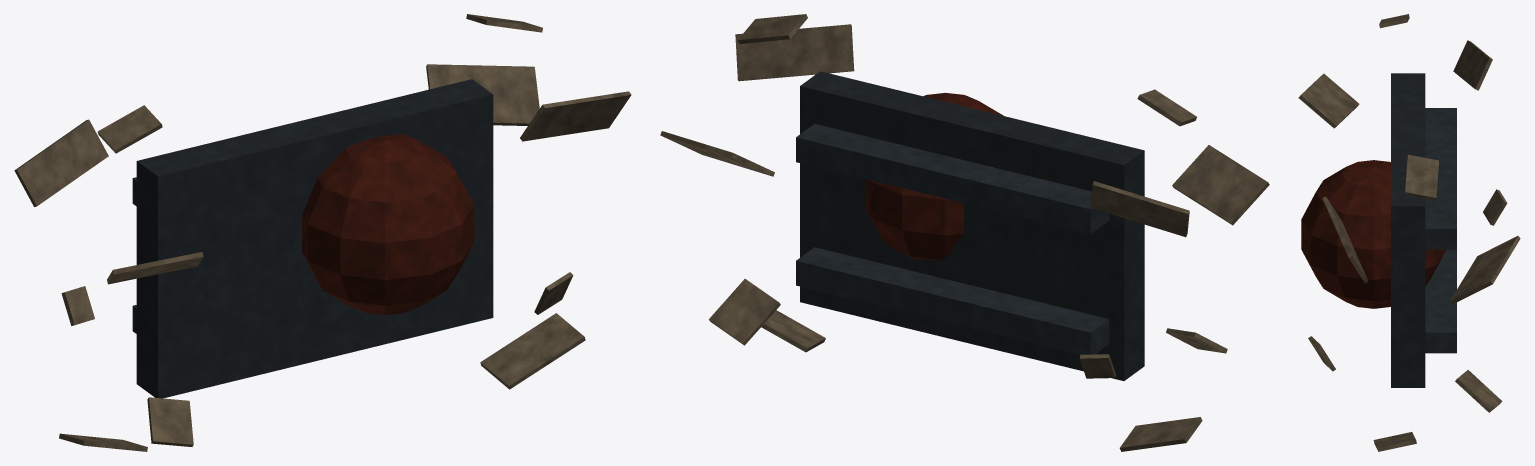
File: aft_armor_slab.glb
3 views of the same model, side by side, from view 1: azimuth 30°, elevation 25°; view 2: azimuth 150°, elevation 25°; view 3: azimuth 270°, elevation 25° (orthographic). The views are drawn at different scales.
Visible parts, largest first — view 1: LOD0_aft_armor_slab_Material_Armor, LOD0_aft_armor_slab_Material_Heat, LOD0_aft_armor_slab_Material_Insulation, LOD2_aft_armor_slab_Material_Armor, LOD2_aft_armor_slab_Material_Heat, LOD2_aft_armor_slab_Material_Insulation; view 2: LOD0_aft_armor_slab_Material_Armor, LOD0_aft_armor_slab_Material_Structural, LOD0_aft_armor_slab_Material_Insulation, LOD2_aft_armor_slab_Material_Armor, LOD0_aft_armor_slab_Material_Heat, LOD2_aft_armor_slab_Material_Structural, LOD1_aft_armor_slab_Material_Structural, LOD2_aft_armor_slab_Material_Heat; view 3: LOD0_aft_armor_slab_Material_Armor, LOD0_aft_armor_slab_Material_Heat, LOD0_aft_armor_slab_Material_Insulation, LOD0_aft_armor_slab_Material_Structural, LOD2_aft_armor_slab_Material_Structural, LOD2_aft_armor_slab_Material_Heat, LOD2_aft_armor_slab_Material_Insulation, LOD1_aft_armor_slab_Material_Heat.
Boxes of the visible parts, x1,y1,x2,y2 form: LOD0_aft_armor_slab_Material_Armor: [136, 79, 493, 398]; LOD0_aft_armor_slab_Material_Heat: [302, 134, 474, 315]; LOD0_aft_armor_slab_Material_Insulation: [14, 14, 631, 451]; LOD2_aft_armor_slab_Material_Armor: [158, 177, 492, 397]; LOD2_aft_armor_slab_Material_Heat: [303, 178, 472, 304]; LOD2_aft_armor_slab_Material_Insulation: [17, 138, 98, 205]; LOD0_aft_armor_slab_Material_Armor: [800, 71, 1144, 380]; LOD0_aft_armor_slab_Material_Structural: [796, 123, 1109, 354]; LOD0_aft_armor_slab_Material_Insulation: [660, 14, 1269, 451]; LOD2_aft_armor_slab_Material_Armor: [802, 165, 1124, 379]; LOD0_aft_armor_slab_Material_Heat: [866, 92, 1003, 259]; LOD2_aft_armor_slab_Material_Structural: [796, 124, 1091, 196]; LOD1_aft_armor_slab_Material_Structural: [798, 150, 1090, 233]; LOD2_aft_armor_slab_Material_Heat: [867, 181, 963, 259]; LOD0_aft_armor_slab_Material_Armor: [1391, 73, 1425, 387]; LOD0_aft_armor_slab_Material_Heat: [1301, 160, 1445, 308]; LOD0_aft_armor_slab_Material_Insulation: [1298, 14, 1520, 451]; LOD0_aft_armor_slab_Material_Structural: [1425, 108, 1456, 353]; LOD2_aft_armor_slab_Material_Structural: [1425, 109, 1456, 228]; LOD2_aft_armor_slab_Material_Heat: [1302, 198, 1436, 300]; LOD2_aft_armor_slab_Material_Insulation: [1454, 41, 1481, 73]; LOD1_aft_armor_slab_Material_Heat: [1312, 208, 1390, 300].
Size of the model in its own units: 17.78 by 11.12 by 7.76.
Materials: 4 (4 with a texture image).
